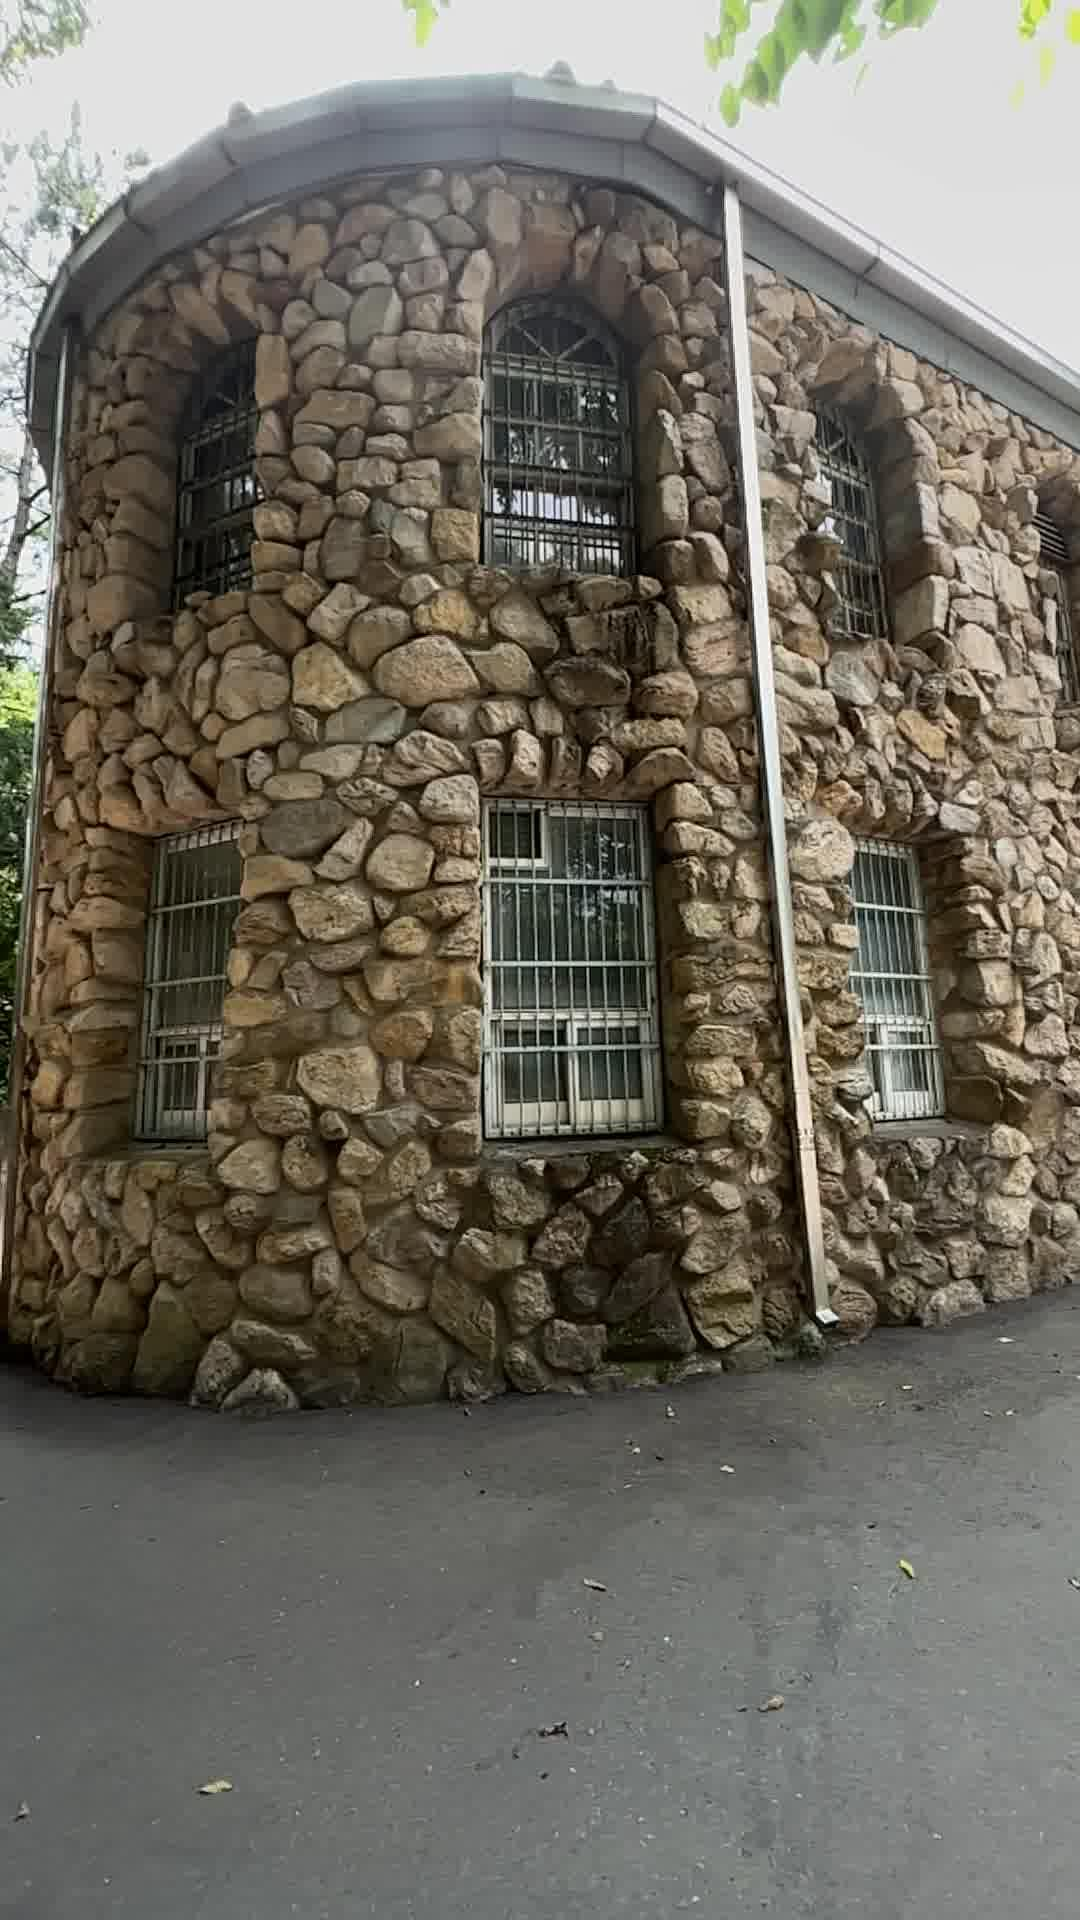building: (20, 58, 1080, 1325)
